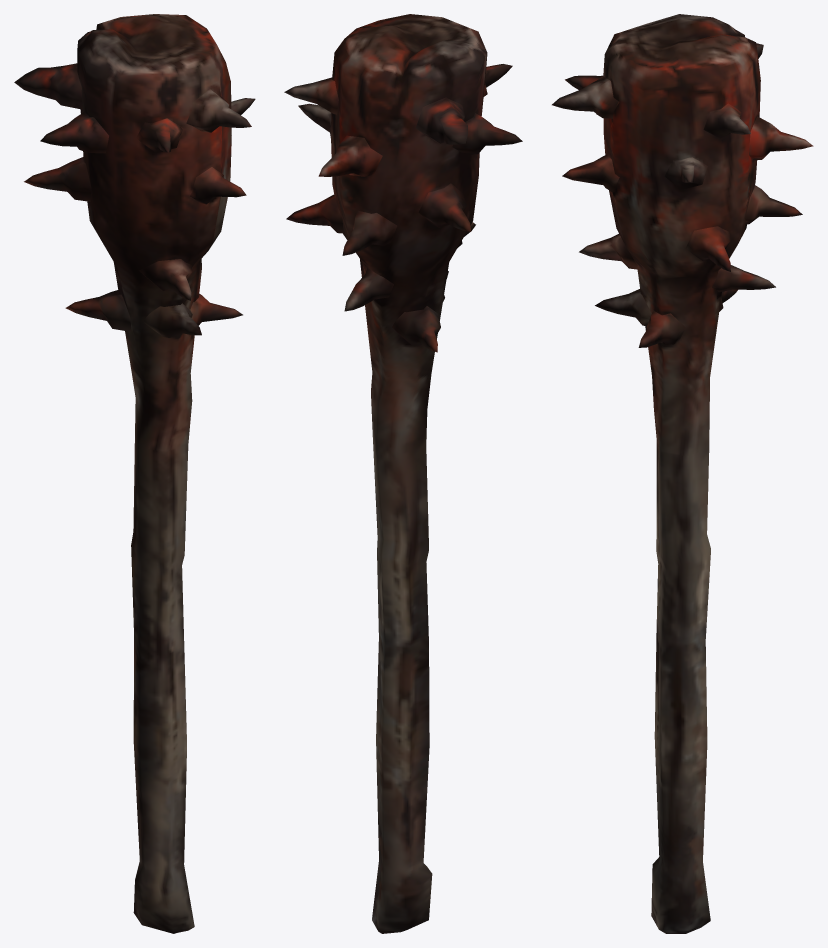
The model's file is weapon-nail-laden-club.glb.
3 renders of one model, left to right at view 1: azimuth 30°, elevation 25°; view 2: azimuth 150°, elevation 25°; view 3: azimuth 270°, elevation 25°, orthographic.
Visible parts, largest first — view 1: snakeLegMutantClub_MDL_q; view 2: snakeLegMutantClub_MDL_q; view 3: snakeLegMutantClub_MDL_q.
Boxes of the visible parts, <box> form: snakeLegMutantClub_MDL_q: <box>14,14,255,933</box>; snakeLegMutantClub_MDL_q: <box>284,14,522,933</box>; snakeLegMutantClub_MDL_q: <box>552,14,813,933</box>.
Size of the model in its own units: 0.3926 by 1.53 by 0.4109.
1 material, 1 textured.
